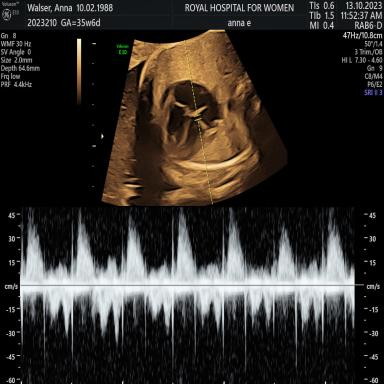Ultrasound-Waves: (30, 208, 354, 384)
